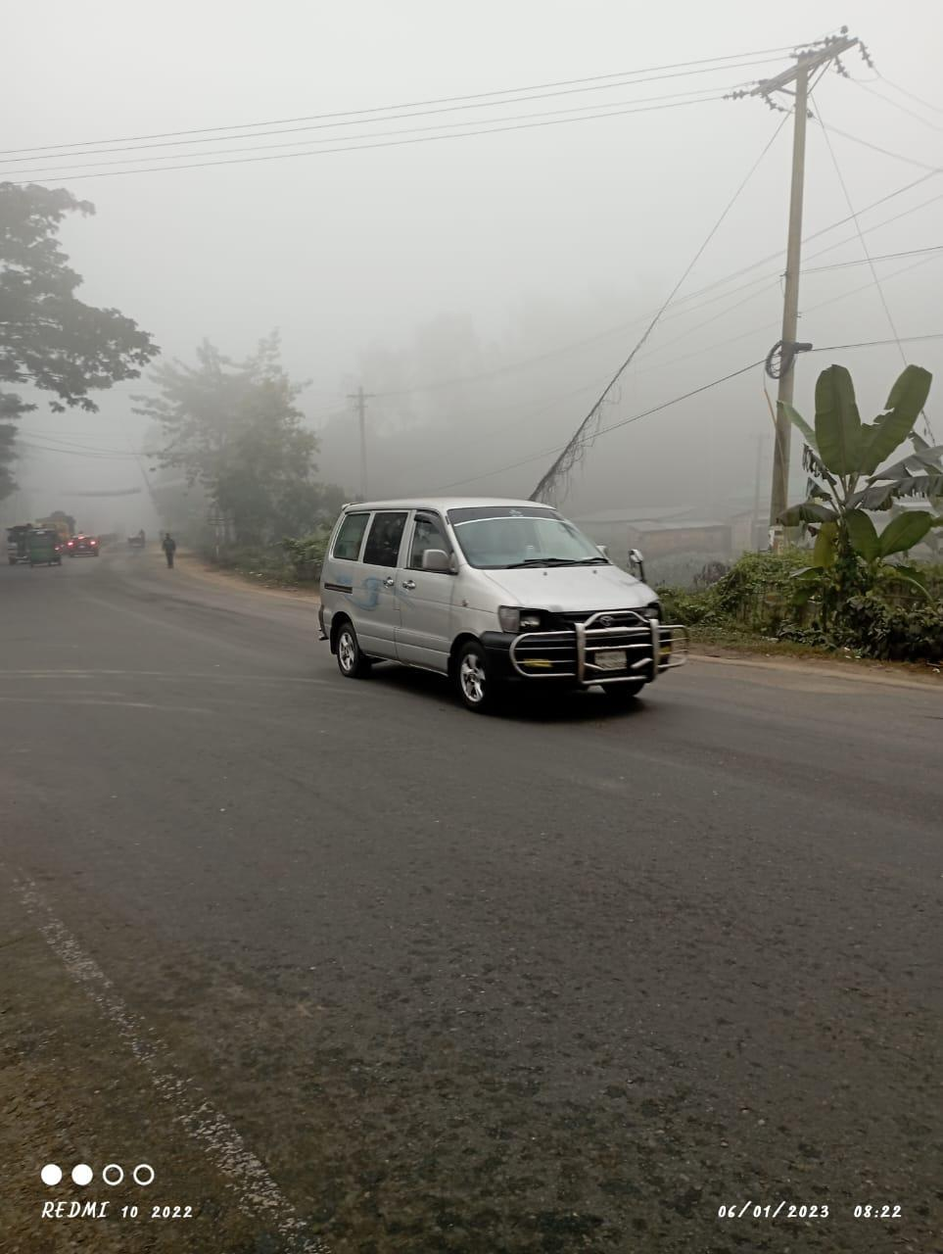Car: (311, 487, 706, 710)
